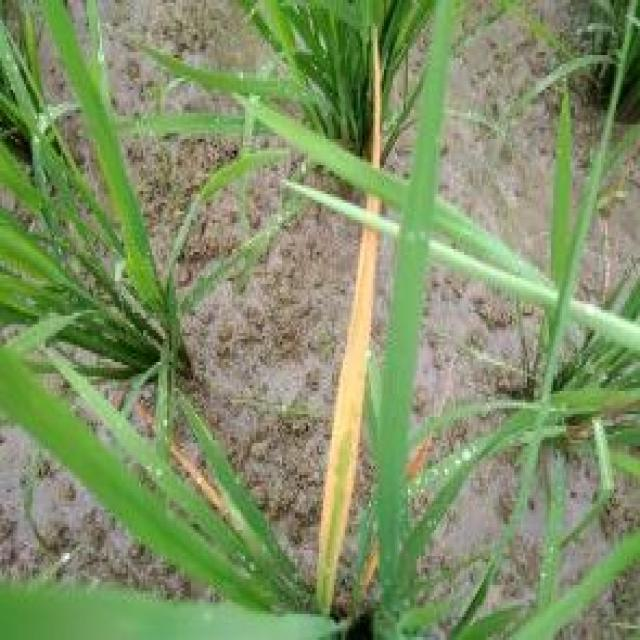Tungro: (298, 159, 382, 640)
